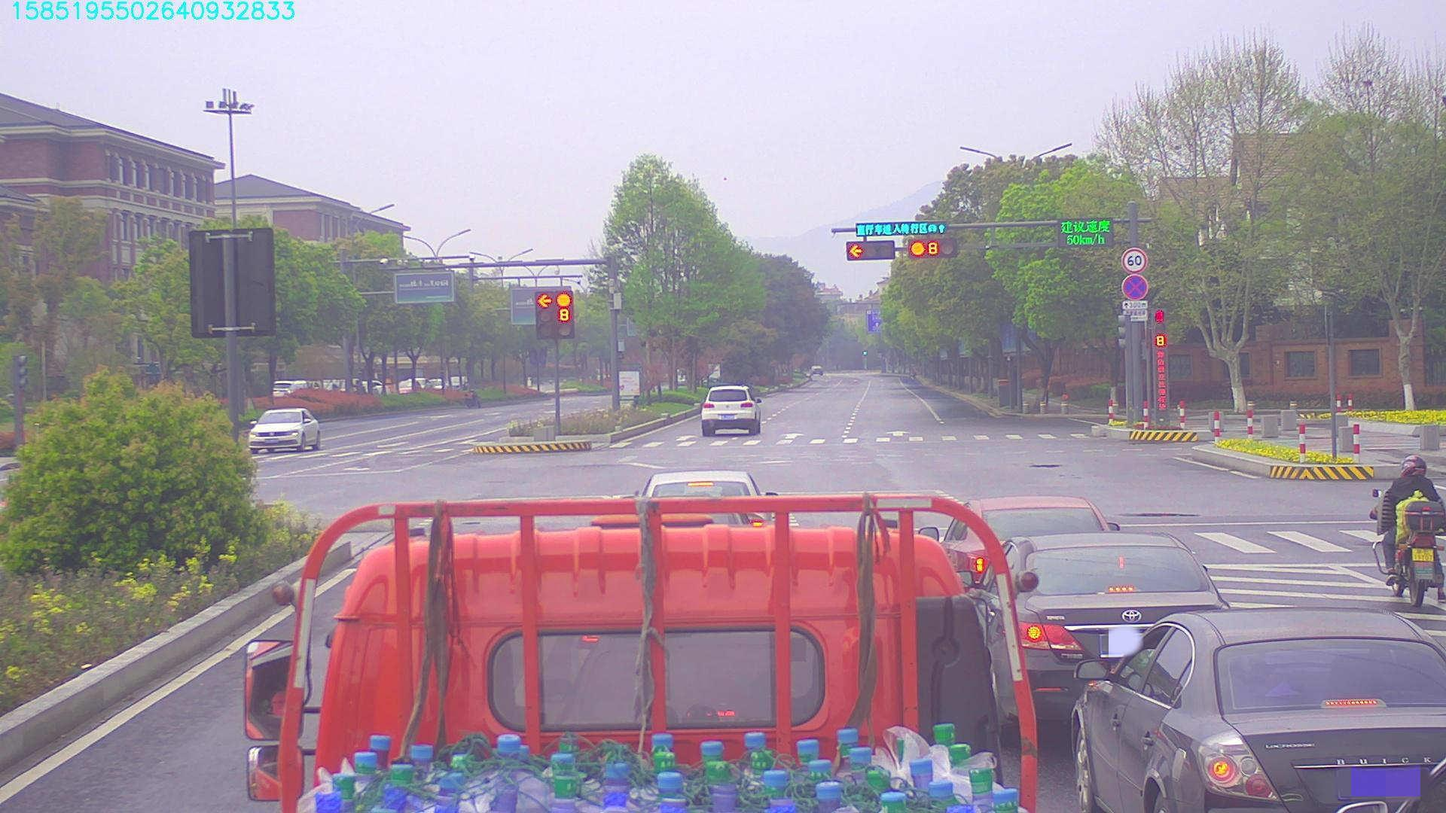red: (848, 238, 892, 260), (912, 242, 953, 254)
wait_on: (853, 219, 946, 237)
